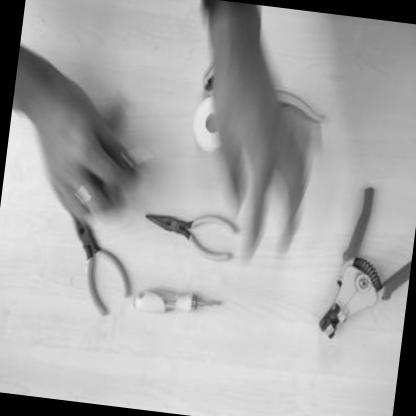Screwdriver: (126, 278, 228, 328)
